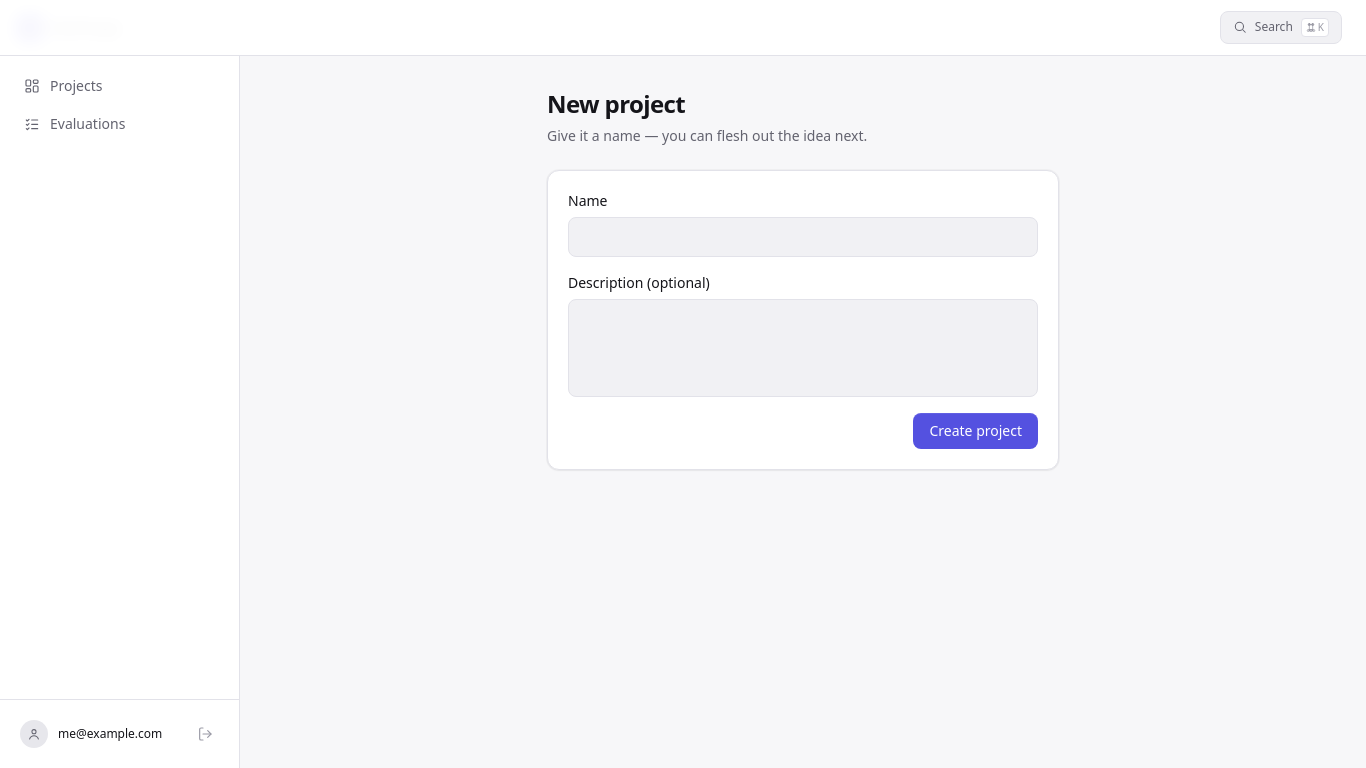
ProjectNew page › requires a name before submitting
This screenshot has width=1366, height=768.
Click the button "Create project" at (976, 431), box [913,413,1038,449]
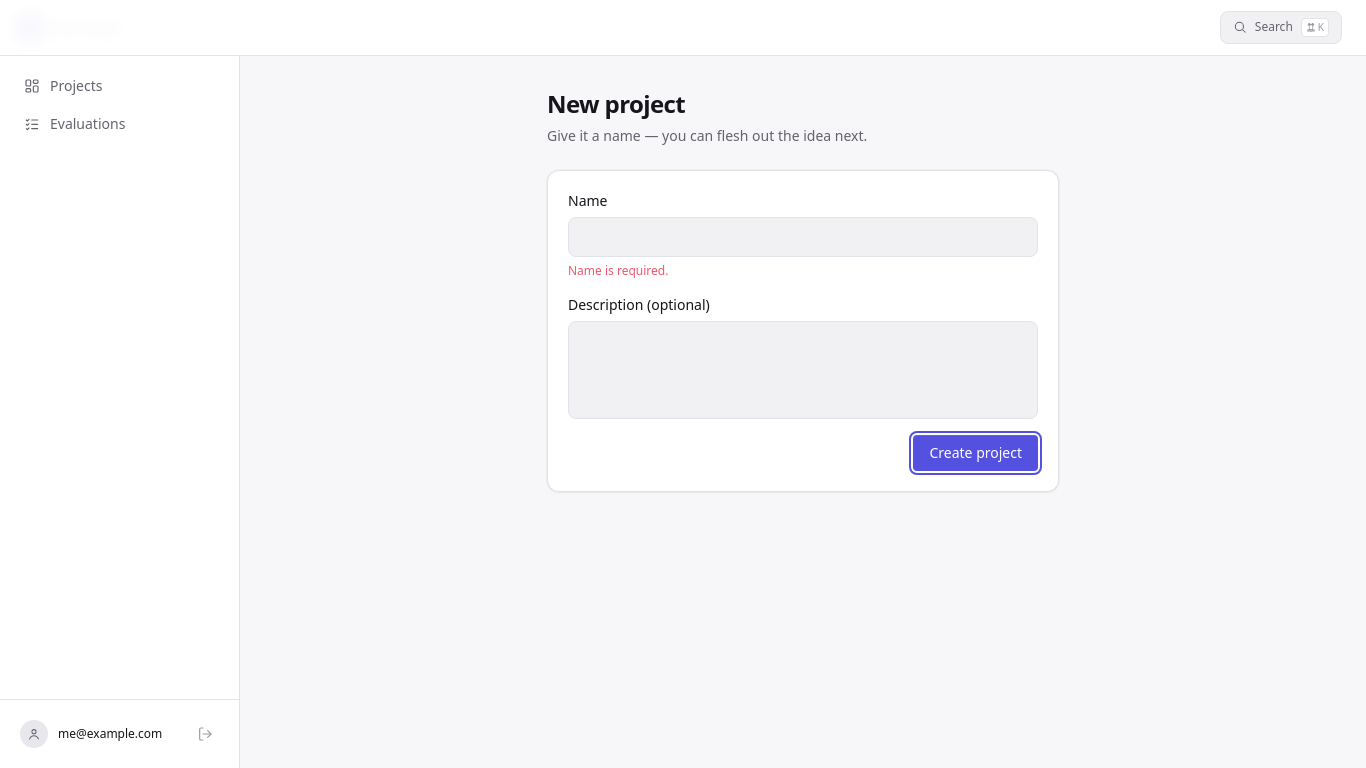
Result: the text "Name is required." is shown at [568,262,668,279]
